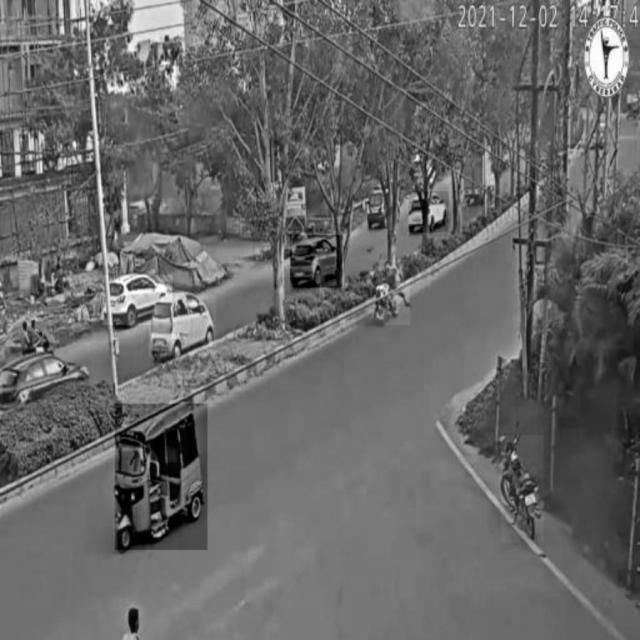accident: (375, 260, 411, 324)
vehicle: (115, 404, 207, 550), (3, 350, 91, 402), (502, 435, 544, 543), (150, 297, 217, 357), (102, 275, 173, 325), (291, 234, 343, 288), (409, 192, 449, 233)
